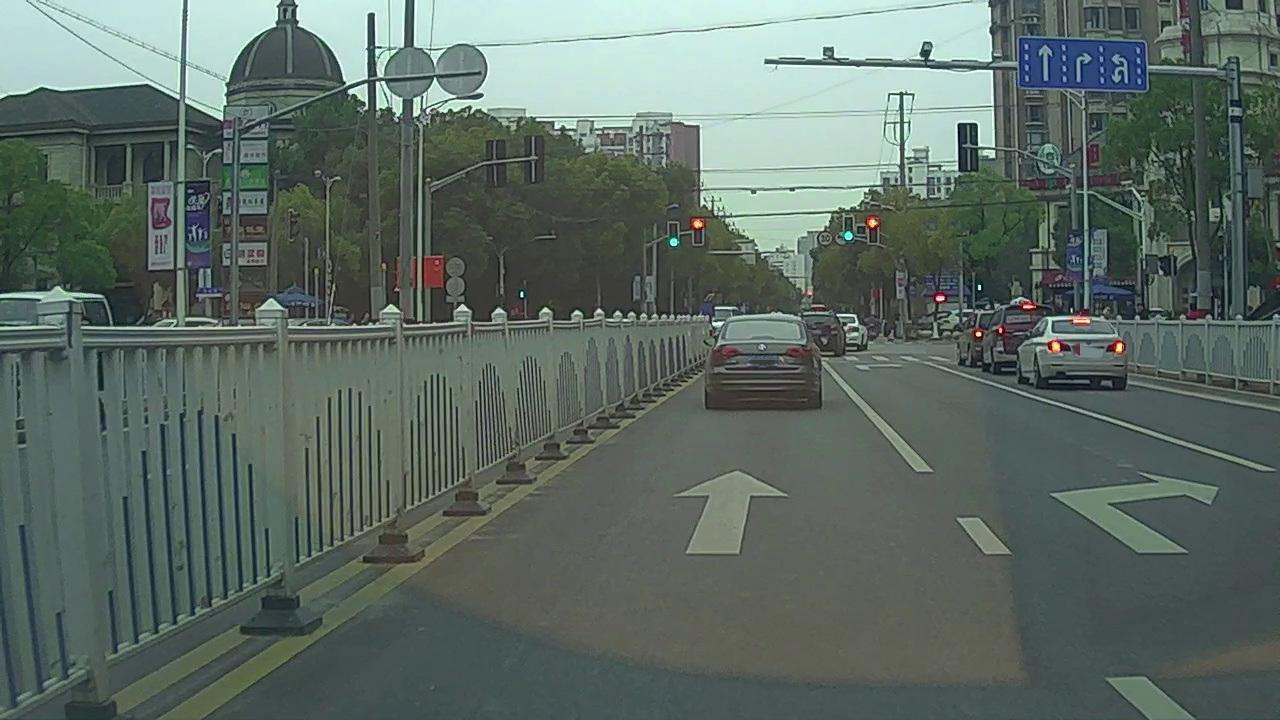traffic_light: (667, 222, 679, 249), (693, 217, 703, 243), (845, 214, 854, 242), (868, 217, 878, 241)
